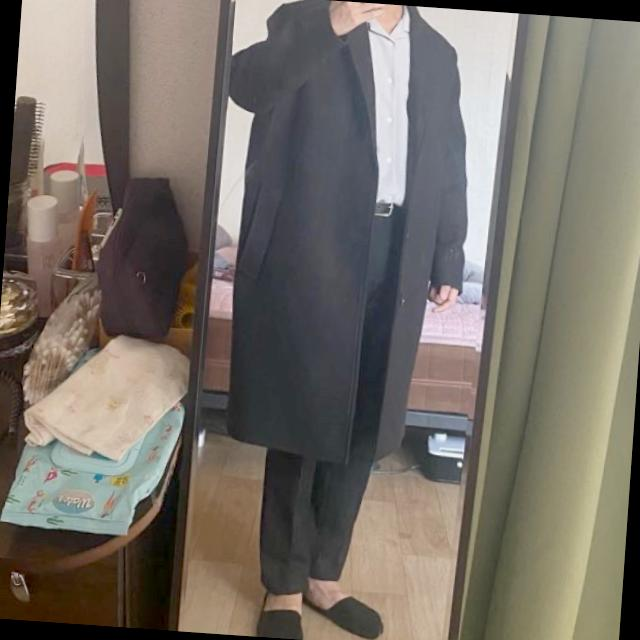coat: (205, 0, 485, 475)
slacks: (252, 191, 418, 600)
